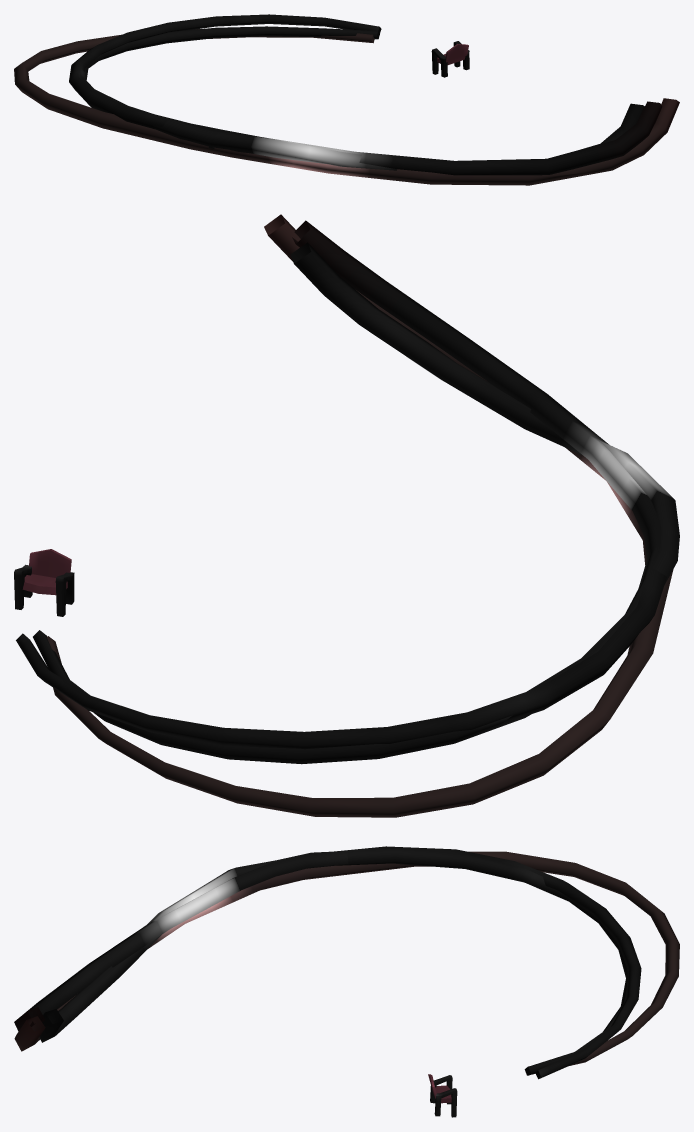
File: modul_music_3.fbx
3 views of the same model, one above another, from view 1: azimuth 30°, elevation 25°; view 2: azimuth 150°, elevation 25°; view 3: azimuth 270°, elevation 25° (orthographic). The views are drawn at different scales.
Parts seen in each view (by area): view 1: modul_music_3; view 2: modul_music_3; view 3: modul_music_3.
Boxes of the visible parts, x1,y1,x2,y2 form: modul_music_3: (14, 14, 679, 185); modul_music_3: (14, 214, 679, 817); modul_music_3: (14, 846, 679, 1117).
Size of the model in its own units: 3802 by 851 by 4592.
1 material, 1 textured.
